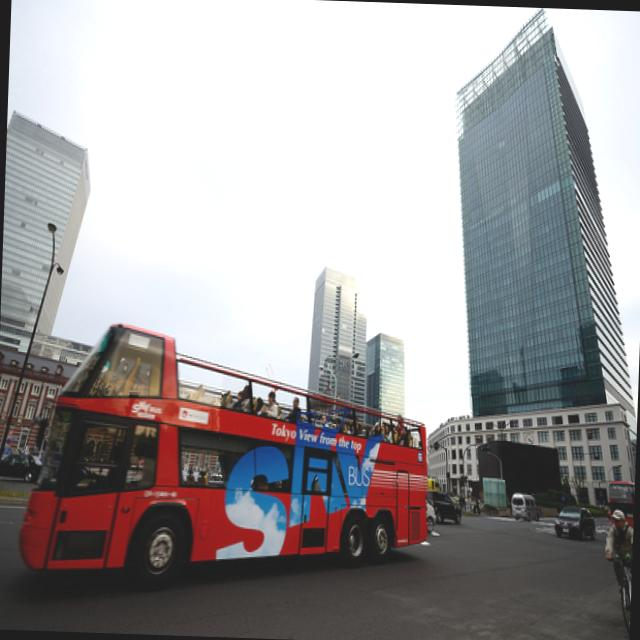Vehicle: (14, 316, 432, 588), (552, 504, 596, 540), (424, 490, 463, 524), (0, 452, 42, 482), (510, 493, 540, 522), (424, 499, 436, 533)
